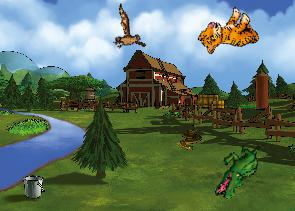crocodile: (213, 138, 262, 204)
eagle: (97, 3, 156, 61)
tiger: (194, 0, 264, 69)
